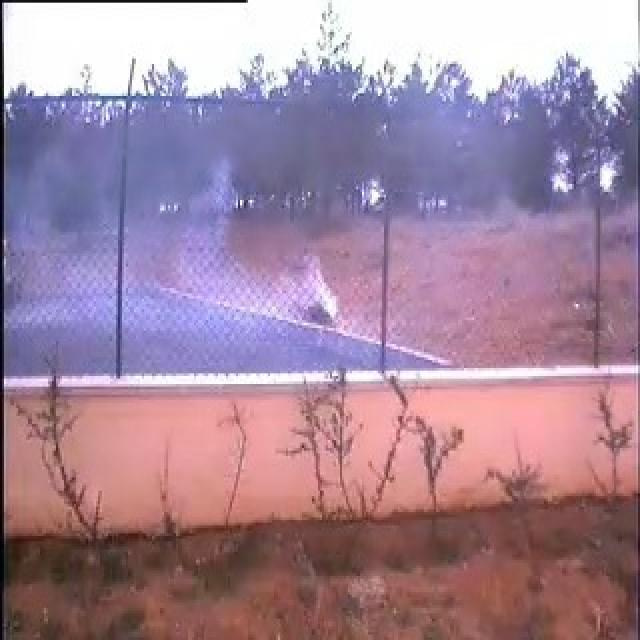smoke: (122, 94, 392, 373)
